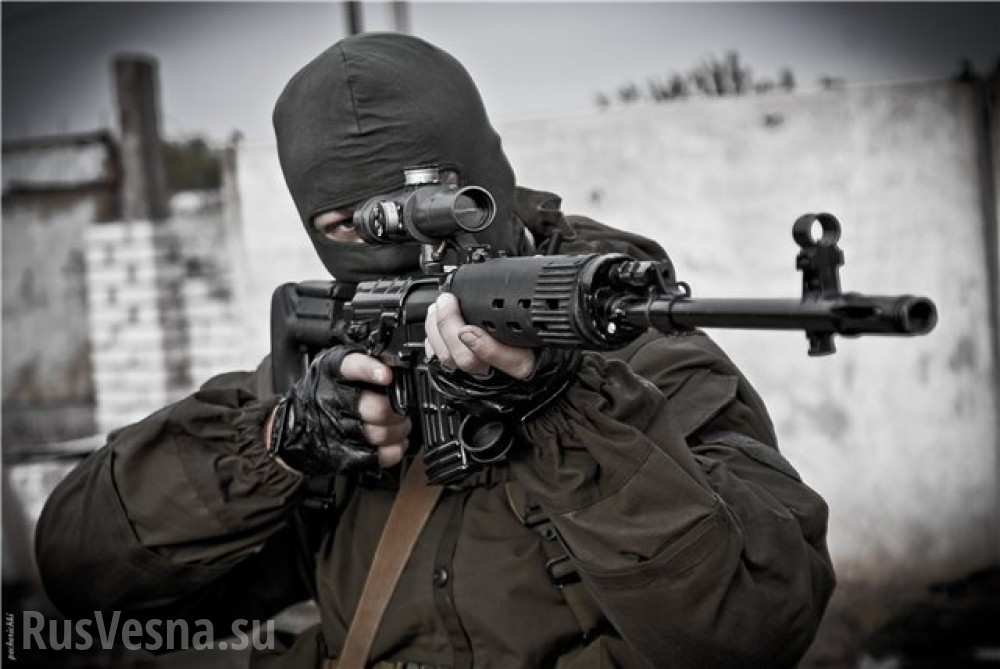Rifle: (267, 167, 939, 485)
